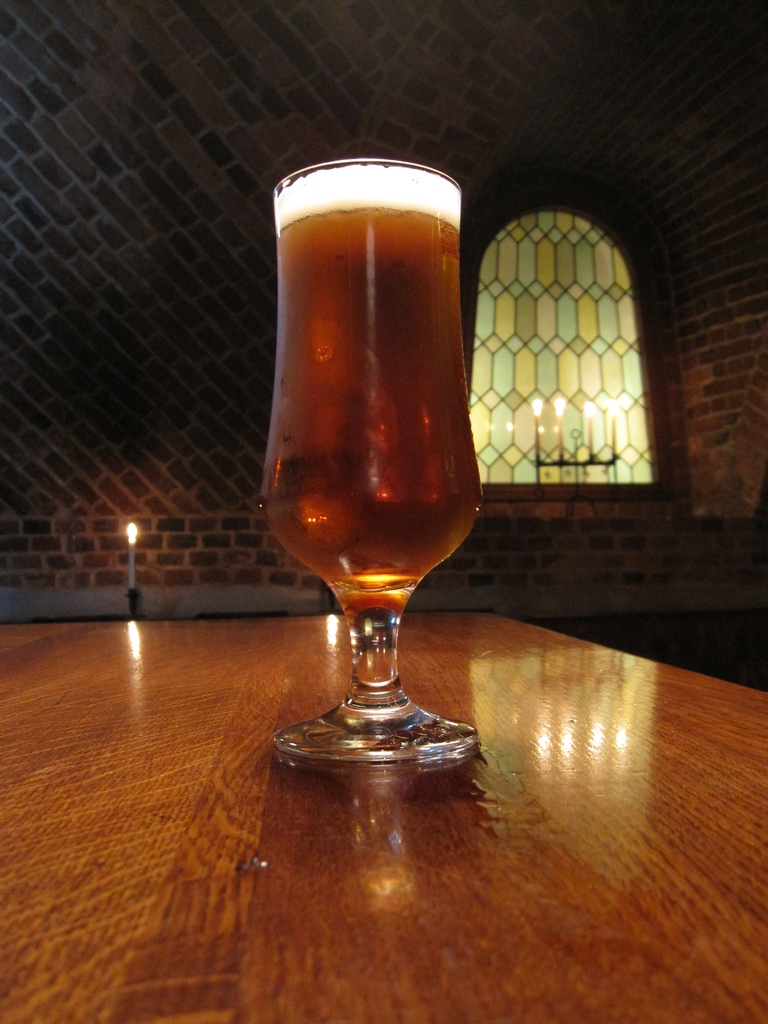Beer: (255, 156, 481, 616)
